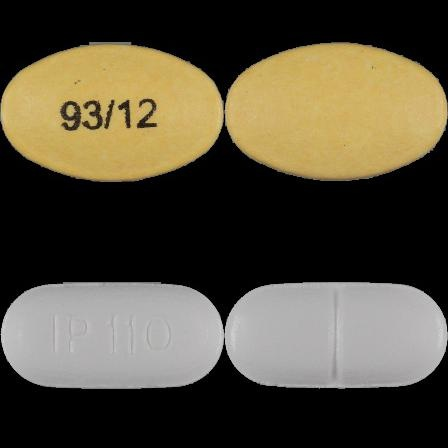63187-119: (0, 0, 224, 224)
